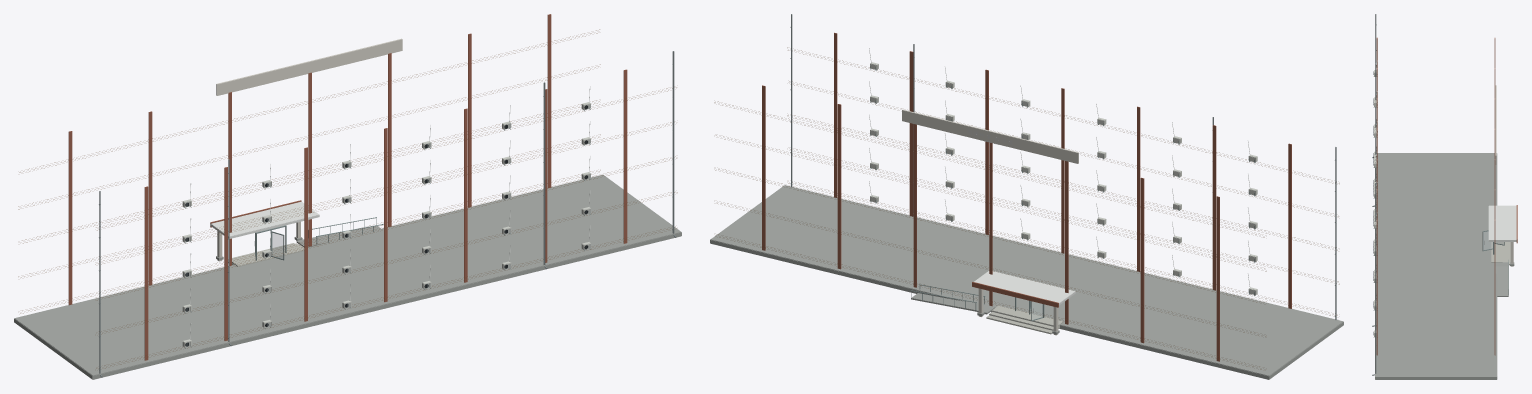
File: exterior.glb
The picture shows the model from 3 angles, left to right: view 1: azimuth 30°, elevation 25°; view 2: azimuth 150°, elevation 25°; view 3: azimuth 270°, elevation 25°; orthographic projection. The views are drawn at different scales.
Visible parts, largest first — view 1: 01_Exterior_Envelope__Concrete_FineCast, 01_Exterior_Envelope__Terracotta_FiredClay, 01_Exterior_Envelope__Plaster_WarmLimestone, 01_Exterior_Envelope__Paint_Slate, 01_Exterior_Envelope__Wood_Walnut, 01_Exterior_Envelope__Paint_OffWhite, 01_Exterior_Envelope__Plastic_SoftIvory, 01_Exterior_Envelope__Steel_PowderCoat, 01_Exterior_Envelope__terrazzo; view 2: 01_Exterior_Envelope__Concrete_FineCast, 01_Exterior_Envelope__Terracotta_FiredClay, 01_Exterior_Envelope__Plaster_WarmLimestone, 01_Exterior_Envelope__Plastic_SoftIvory, 01_Exterior_Envelope__Paint_OffWhite, 01_Exterior_Envelope__Wood_Walnut, 01_Exterior_Envelope__terrazzo, 01_Exterior_Envelope__Paint_Slate, 01_Exterior_Envelope__Steel_PowderCoat; view 3: 01_Exterior_Envelope__Concrete_FineCast, 01_Exterior_Envelope__Terracotta_FiredClay, 01_Exterior_Envelope__Paint_OffWhite, 01_Exterior_Envelope__Paint_Slate, 01_Exterior_Envelope__terrazzo, 01_Exterior_Envelope__Plastic_SoftIvory, 01_Exterior_Envelope__Plaster_WarmLimestone, 01_Exterior_Envelope__Steel_PowderCoat, 01_Exterior_Envelope__Glass_ClearArchitectural.
Part boxes in pixels (<box>): 01_Exterior_Envelope__Concrete_FineCast: <box>14,174,681,379</box>; 01_Exterior_Envelope__Terracotta_FiredClay: <box>68,14,627,360</box>; 01_Exterior_Envelope__Plaster_WarmLimestone: <box>216,38,402,261</box>; 01_Exterior_Envelope__Paint_Slate: <box>99,51,676,377</box>; 01_Exterior_Envelope__Wood_Walnut: <box>18,29,677,368</box>; 01_Exterior_Envelope__Paint_OffWhite: <box>190,86,590,339</box>; 01_Exterior_Envelope__Plastic_SoftIvory: <box>182,102,590,347</box>; 01_Exterior_Envelope__Steel_PowderCoat: <box>99,64,672,370</box>; 01_Exterior_Envelope__terrazzo: <box>228,243,304,266</box>; 01_Exterior_Envelope__Concrete_FineCast: <box>710,185,1343,379</box>; 01_Exterior_Envelope__Terracotta_FiredClay: <box>762,32,1291,361</box>; 01_Exterior_Envelope__Plaster_WarmLimestone: <box>902,109,1078,335</box>; 01_Exterior_Envelope__Plastic_SoftIvory: <box>870,62,1257,295</box>; 01_Exterior_Envelope__Paint_OffWhite: <box>869,48,1250,305</box>; 01_Exterior_Envelope__Wood_Walnut: <box>714,47,1339,369</box>; 01_Exterior_Envelope__terrazzo: <box>986,305,1063,334</box>; 01_Exterior_Envelope__Paint_Slate: <box>791,14,1336,319</box>; 01_Exterior_Envelope__Steel_PowderCoat: <box>790,27,1336,321</box>; 01_Exterior_Envelope__Concrete_FineCast: <box>1375,153,1514,379</box>; 01_Exterior_Envelope__Terracotta_FiredClay: <box>1376,37,1517,355</box>; 01_Exterior_Envelope__Paint_OffWhite: <box>1375,61,1516,327</box>; 01_Exterior_Envelope__Paint_Slate: <box>1372,14,1376,375</box>; 01_Exterior_Envelope__terrazzo: <box>1491,242,1510,265</box>; 01_Exterior_Envelope__Plastic_SoftIvory: <box>1374,70,1376,337</box>; 01_Exterior_Envelope__Plaster_WarmLimestone: <box>1495,85,1513,266</box>; 01_Exterior_Envelope__Steel_PowderCoat: <box>1373,24,1508,371</box>; 01_Exterior_Envelope__Glass_ClearArchitectural: <box>1483,231,1503,249</box>.
Bounding box in the file's own units: 63.5 × 19.54 × 17.46.
